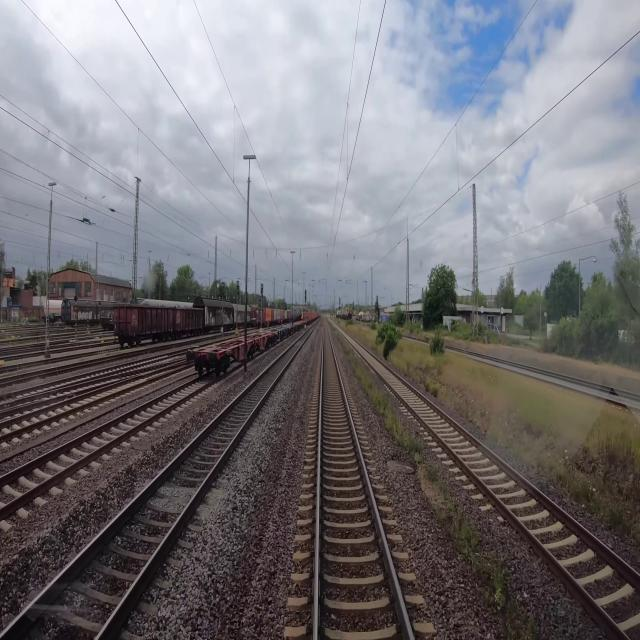Plant: (395, 336, 639, 545), (432, 472, 522, 615), (346, 350, 431, 465), (372, 321, 402, 362)
